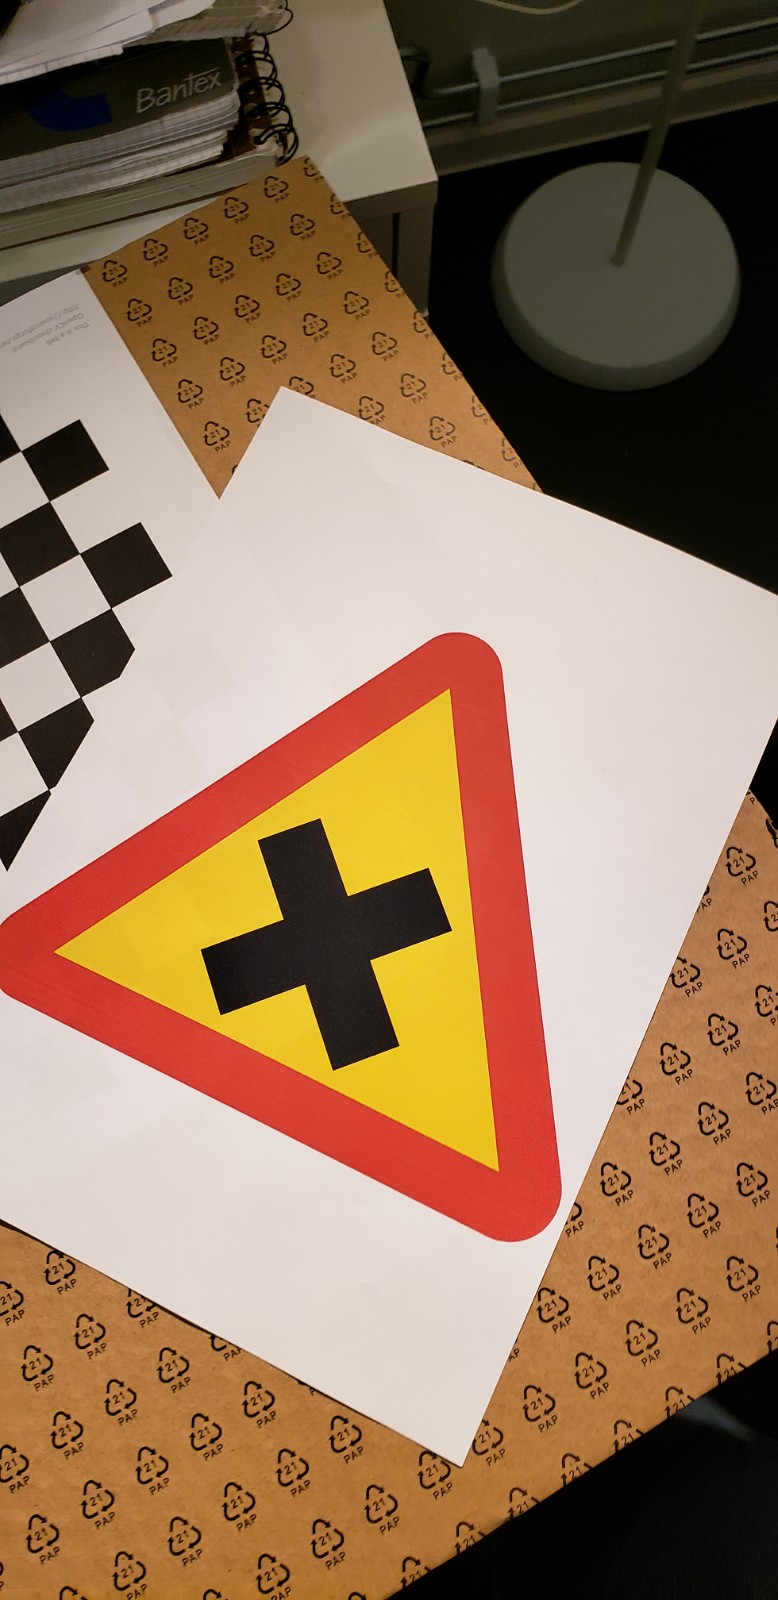junction: (25, 642, 674, 1284)
